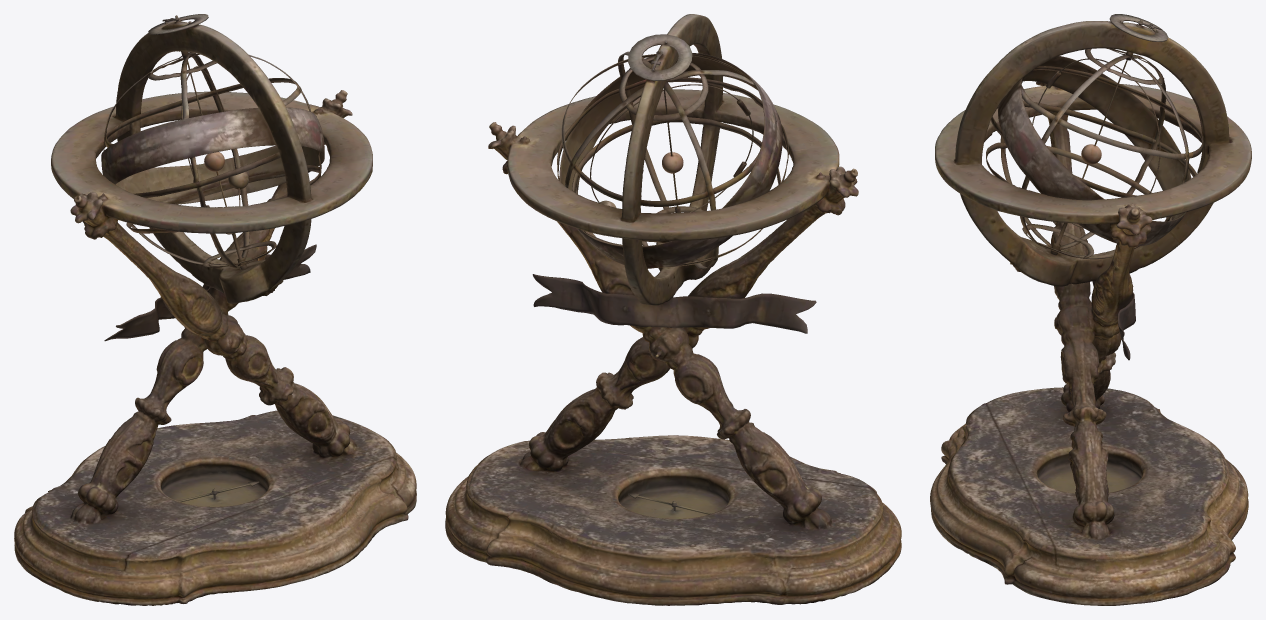
File: armillary-sphere-1771.glb
3 views of the same model, side by side, from view 1: azimuth 30°, elevation 25°; view 2: azimuth 150°, elevation 25°; view 3: azimuth 270°, elevation 25° (orthographic). The views are drawn at different scales.
Visible parts, largest first — view 1: Object_3, Object_2; view 2: Object_3, Object_2; view 3: Object_3, Object_2.
Boxes of the visible parts, x1=… form: Object_3: x1=14, y1=14, x2=416, y2=605; Object_2: x1=161, y1=464, x2=267, y2=506; Object_3: x1=445, y1=14, x2=901, y2=605; Object_2: x1=618, y1=476, x2=729, y2=518; Object_3: x1=930, y1=14, x2=1251, y2=605; Object_2: x1=1037, y1=454, x2=1142, y2=492.
Size of the model in its own units: 0.4141 by 0.5102 by 0.3041.
Materials: 2 (1 with a texture image).
